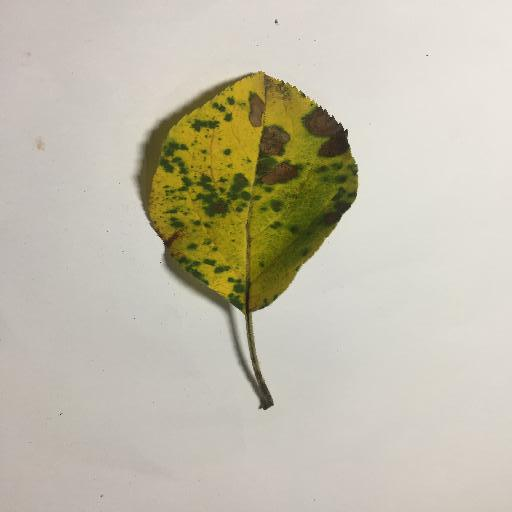Brown_Spot: (252, 165, 303, 184), (267, 125, 291, 160), (245, 94, 265, 124), (156, 221, 178, 247), (308, 110, 333, 130), (199, 199, 224, 215), (321, 139, 349, 153)
